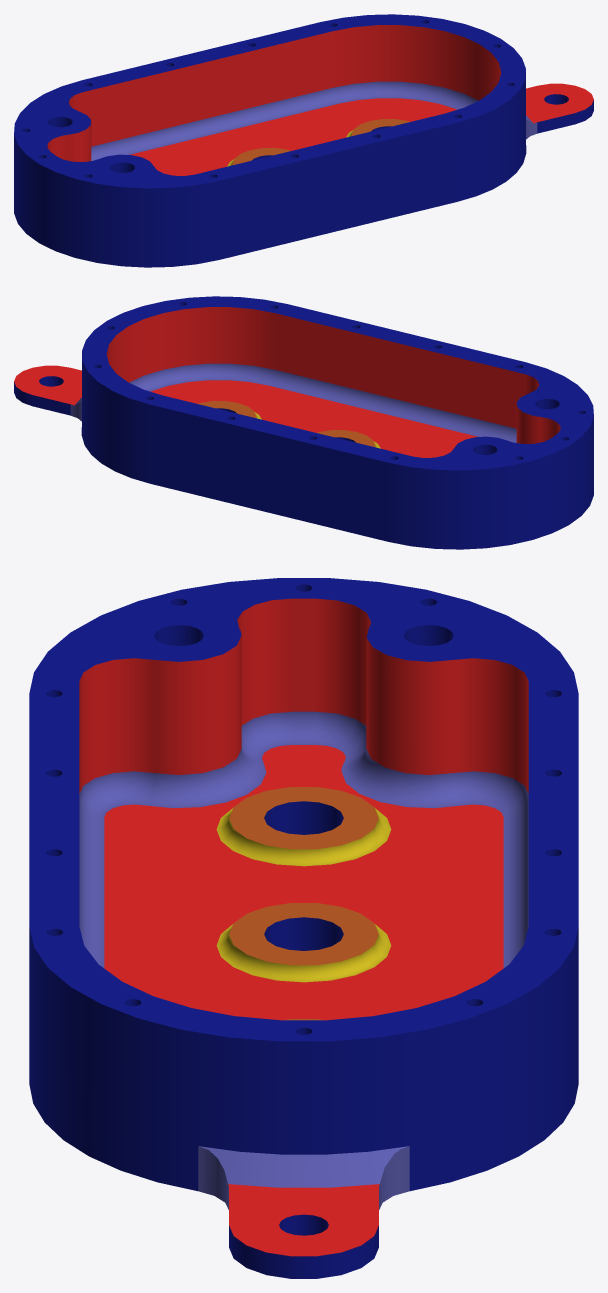
The model's file is pieza1.gltf.
3 views of the same model, one above another, from view 1: azimuth 30°, elevation 25°; view 2: azimuth 150°, elevation 25°; view 3: azimuth 270°, elevation 25° (orthographic). The views are drawn at different scales.
Visible parts, largest first — view 1: ETS_2020_5_pieza; view 2: ETS_2020_5_pieza; view 3: ETS_2020_5_pieza.
Part boxes in pixels (x1,y1,x2,y2): ETS_2020_5_pieza: (14,14,593,267); ETS_2020_5_pieza: (14,296,593,549); ETS_2020_5_pieza: (29,578,578,1278).
Bounding box in the file's own units: 0.5141 × 0.07 × 0.22.
